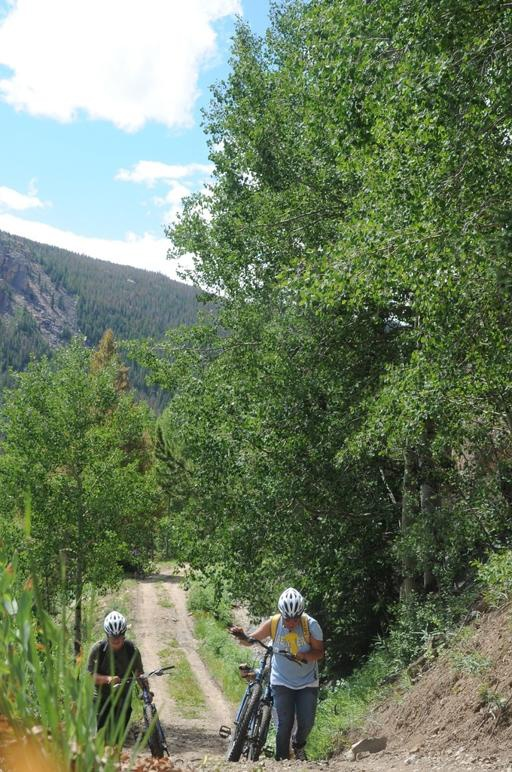non-vehicle: (219, 629, 308, 762), (109, 663, 176, 760)
